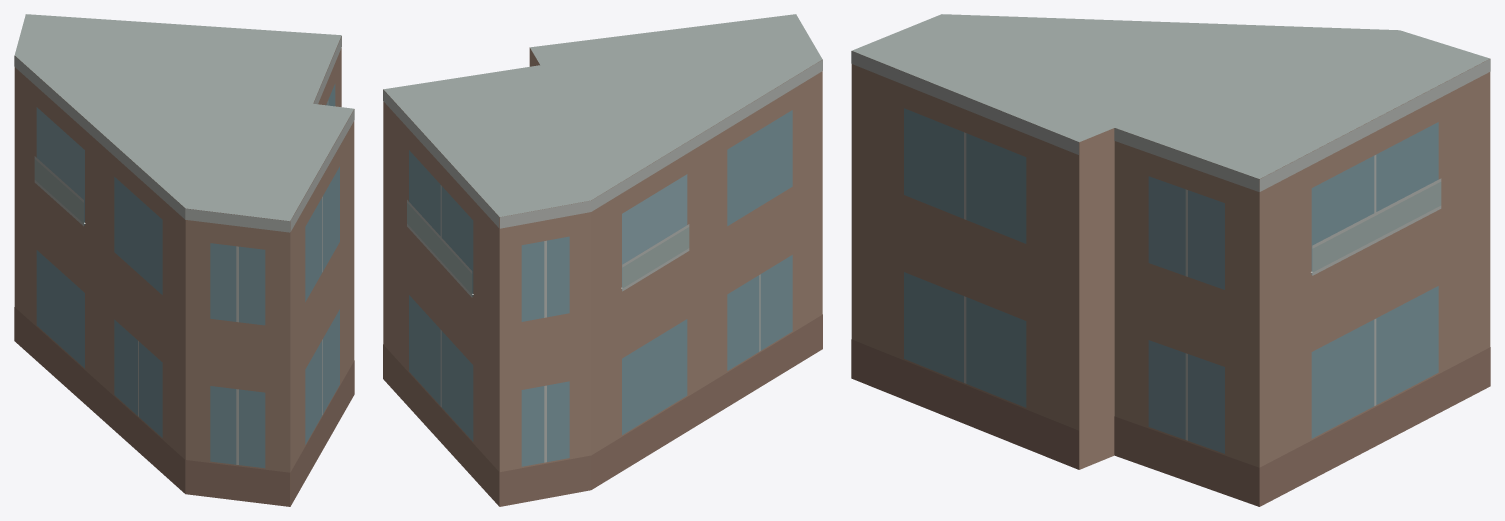
Rendered from survey-upis-32761275.glb.
The picture shows the model from 3 angles, left to right: view 1: azimuth 30°, elevation 25°; view 2: azimuth 150°, elevation 25°; view 3: azimuth 270°, elevation 25°; orthographic projection. The views are drawn at different scales.
Visible parts, largest first — view 1: survey-upis-32761275.tmp; view 2: survey-upis-32761275.tmp; view 3: survey-upis-32761275.tmp.
Part boxes in pixels (bbox=[...]): survey-upis-32761275.tmp: bbox=[14, 14, 354, 506]; survey-upis-32761275.tmp: bbox=[383, 14, 822, 506]; survey-upis-32761275.tmp: bbox=[851, 14, 1490, 506].
Bounding box in the file's own units: 6.6 × 6.1 × 10.78.
